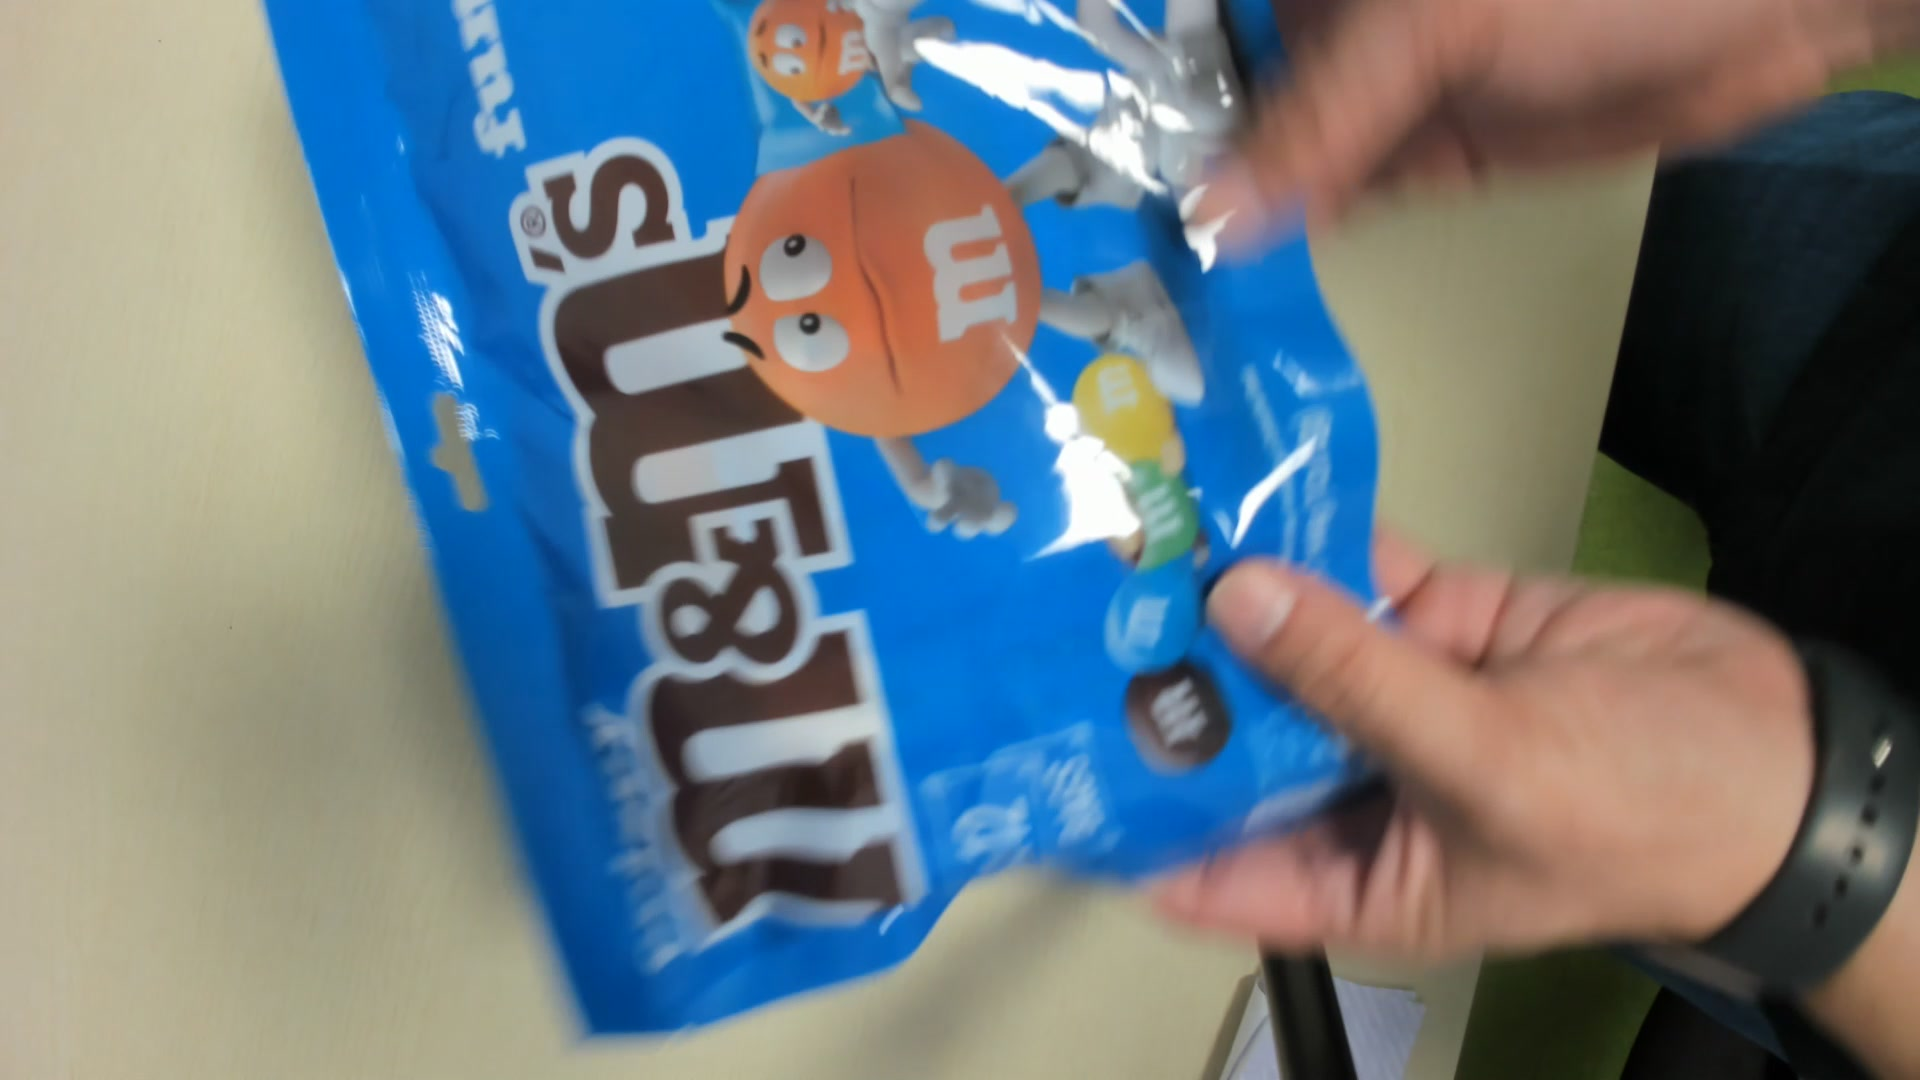SweetsChocolatesOthers_100-199g_Halal_Nonhealthy: (256, 1, 1383, 1040)
